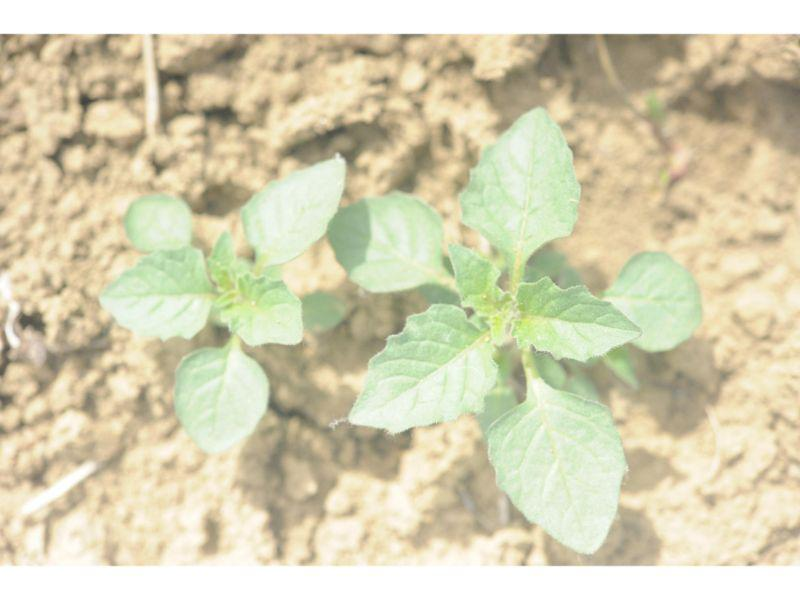nightshade: (328, 104, 703, 553), (99, 156, 349, 452)
